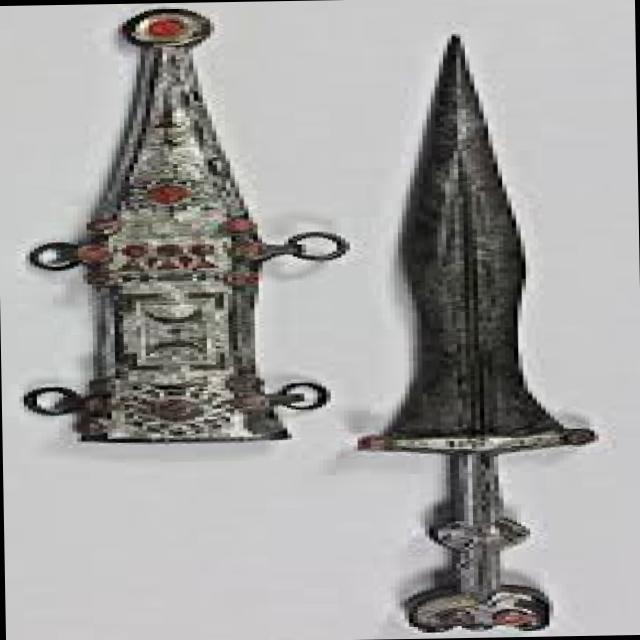Gun: (303, 29, 640, 636)
